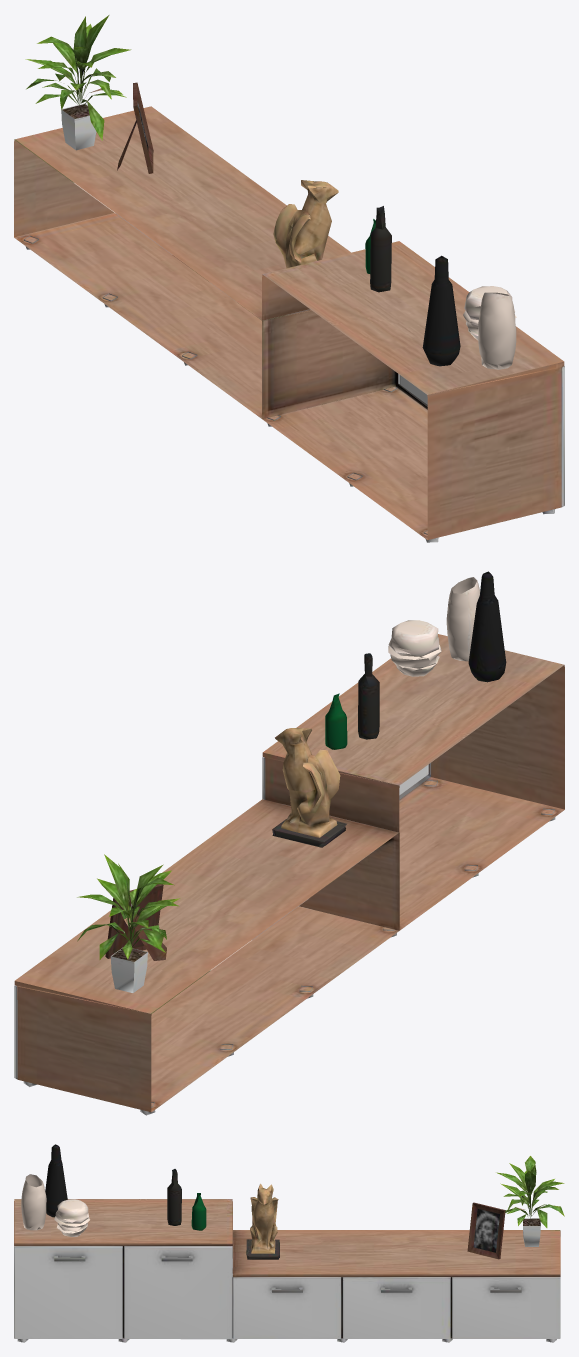
File: Cupboard0010.obj
The picture shows the model from 3 angles, top to bottom: view 1: azimuth 30°, elevation 25°; view 2: azimuth 150°, elevation 25°; view 3: azimuth 270°, elevation 25°; orthographic projection. The views are drawn at different scales.
Bounding box in the file's own units: 0.592 × 0.984 × 2.9.
Materials: 1 (1 with a texture image).
